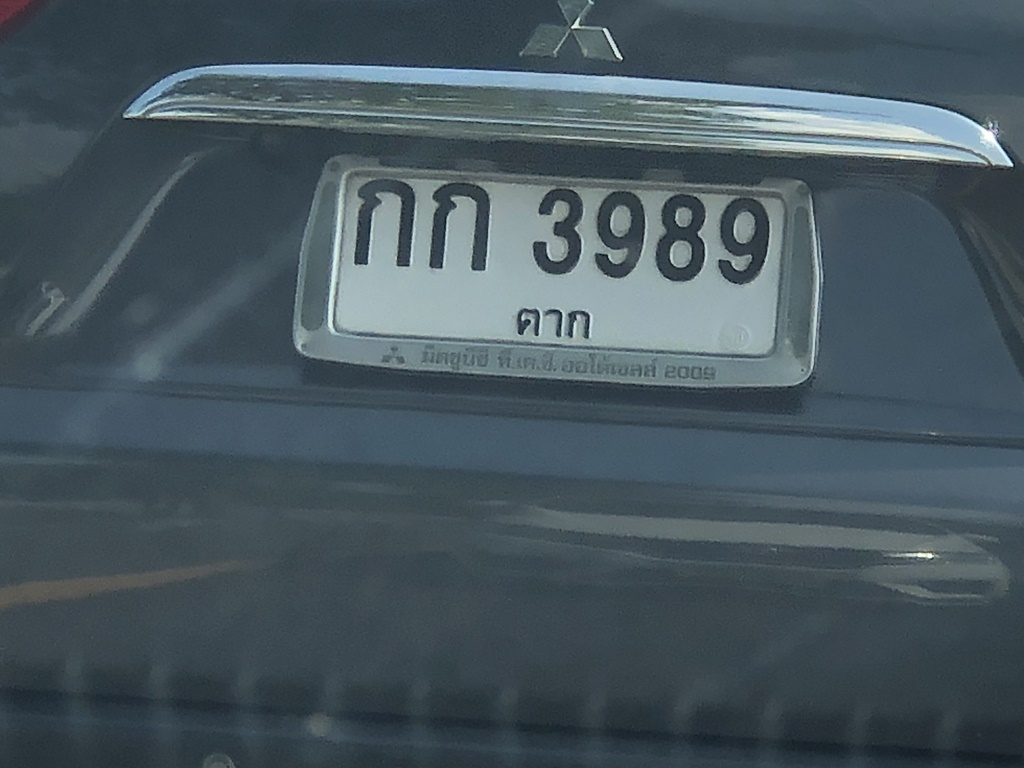eight: (647, 183, 709, 289)
plate: (323, 136, 811, 374)
